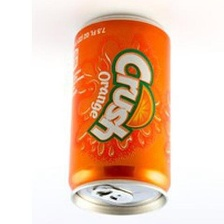can: (66, 10, 174, 223)
